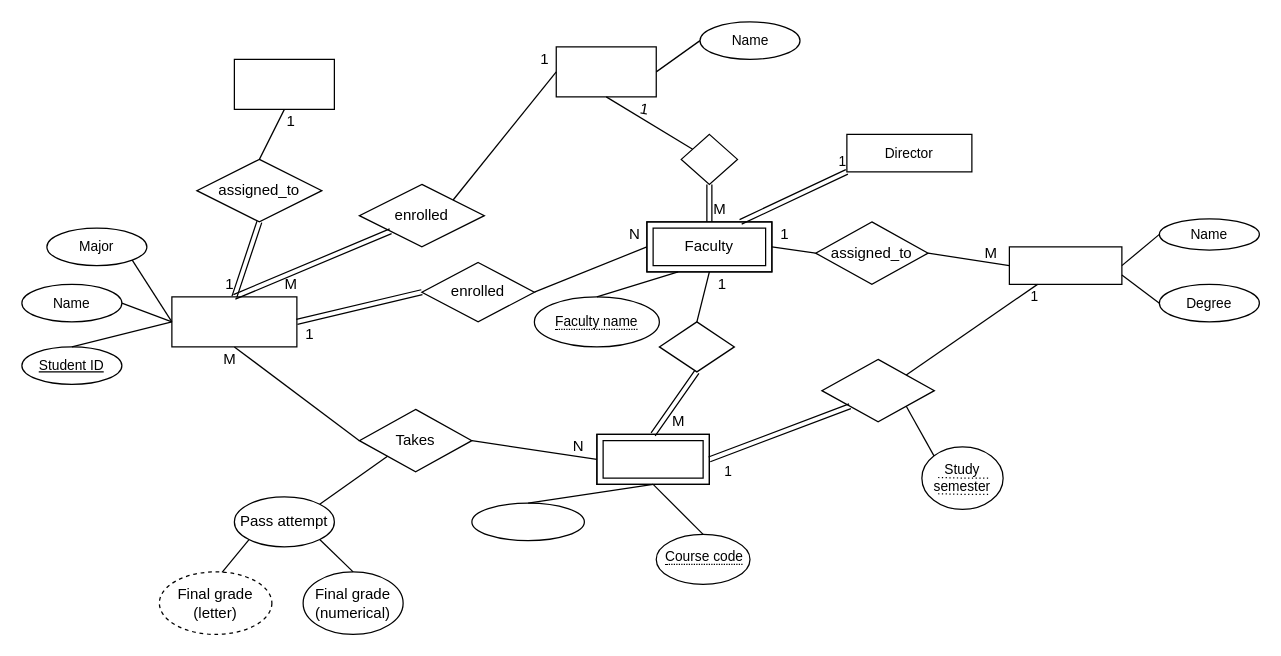
Some shapes in this 1281 by 656 pixel diagram are drawn without their labels. The centre of each missing label's shape, as x and y in pixels:
Course: the point at 652,458
Course name: the point at 527,521
has: the point at 709,158
offers: the point at 696,346
Professor: the point at 1065,265
Student: the point at 234,321
Study group: the point at 283,83
teaches: the point at 877,390
University: the point at 605,71
